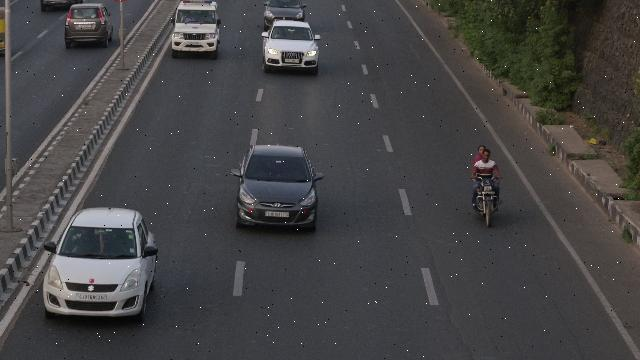Without Helmet: (476, 144, 486, 156), (482, 150, 490, 160)
